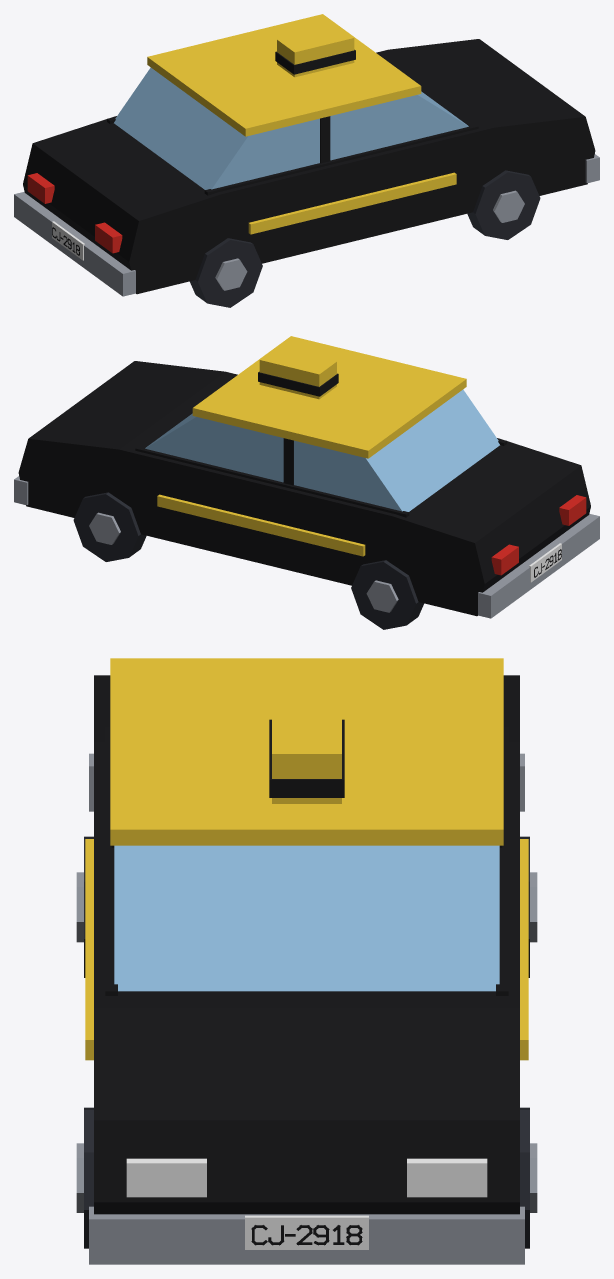
File: taxi_chileno.obj
The picture shows the model from 3 angles, top to bottom: view 1: azimuth 30°, elevation 25°; view 2: azimuth 150°, elevation 25°; view 3: azimuth 270°, elevation 25°; orthographic projection. The views are drawn at different scales.
Visible parts, largest first — view 1: taxi_chileno; view 2: taxi_chileno; view 3: taxi_chileno.
Boxes of the visible parts, bbox=[...] form: taxi_chileno: bbox=[14, 14, 599, 307]; taxi_chileno: bbox=[14, 336, 599, 629]; taxi_chileno: bbox=[76, 658, 537, 1264].
Size of the model in its own units: 4.44 by 1.71 by 1.84.
